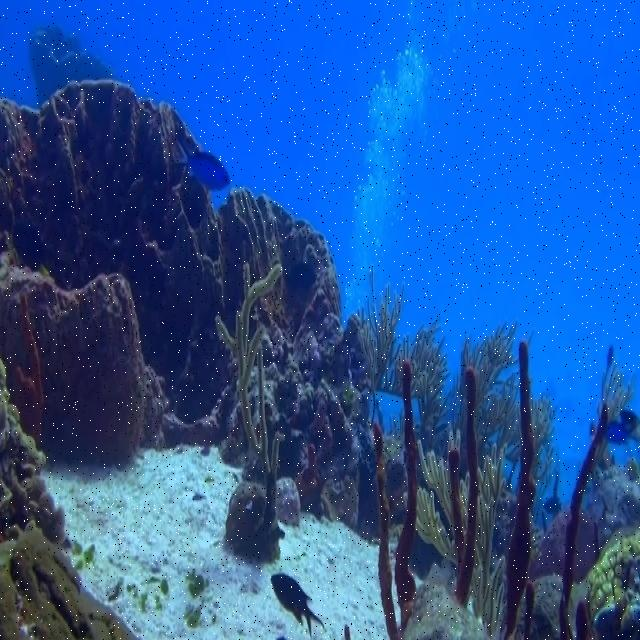aquatic plants: (371, 341, 639, 639), (215, 263, 281, 529)
fish: (272, 575, 321, 636), (174, 146, 229, 186)
reefs: (0, 76, 523, 639)
